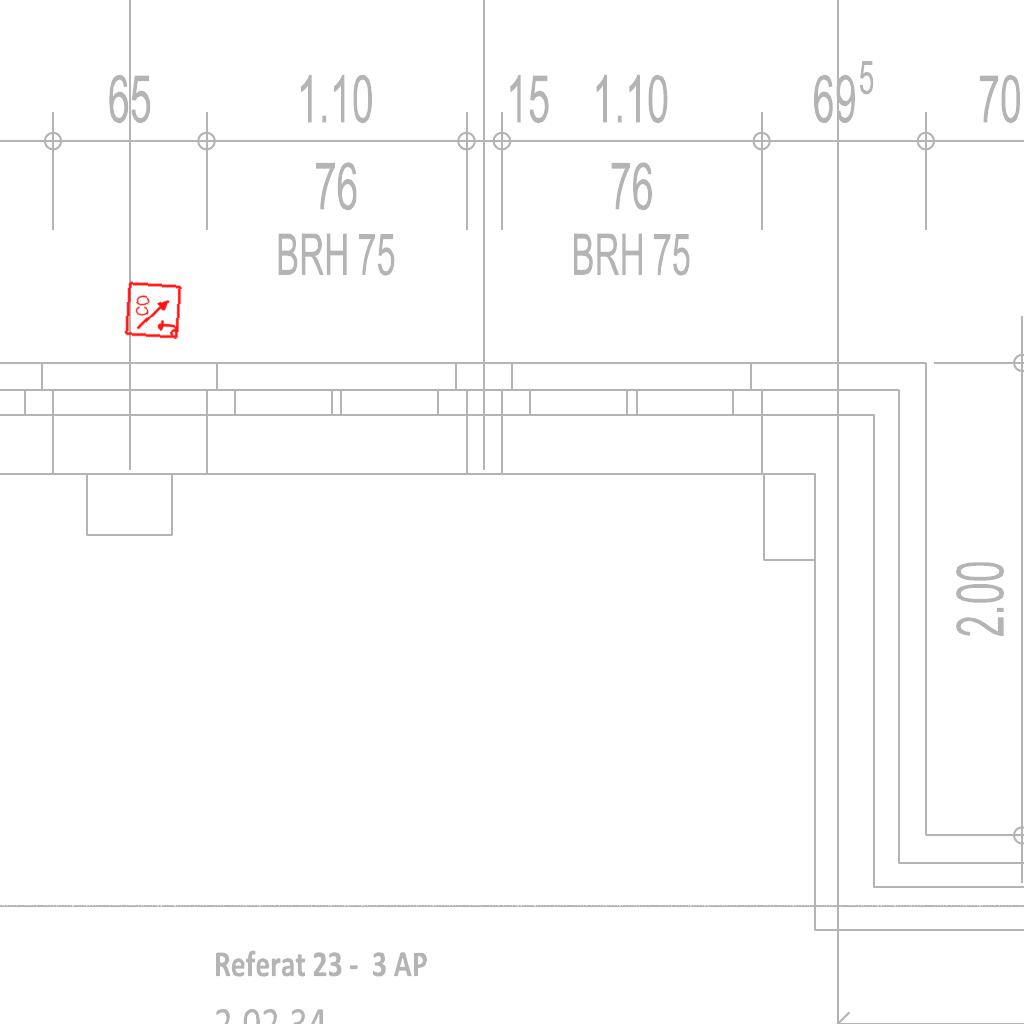ROA_Rauchmelder_optisch_mit_Signalgeber_(Sockelsirene): (124, 280, 184, 340)
